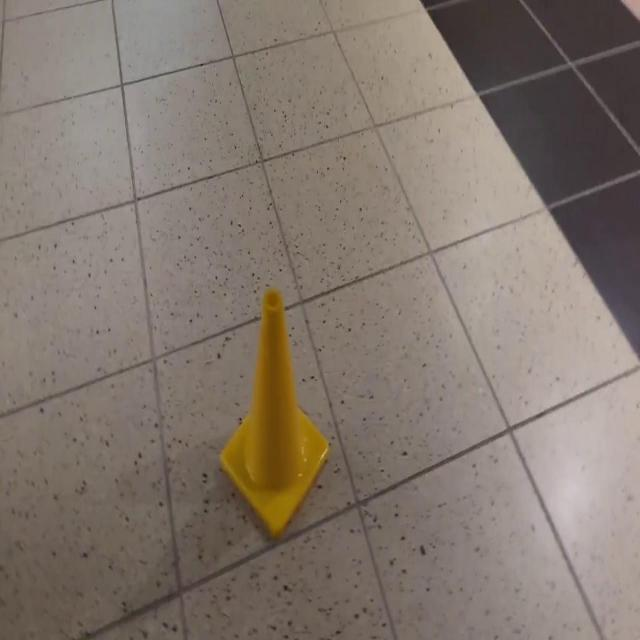frc_cone: (218, 287, 330, 538)
